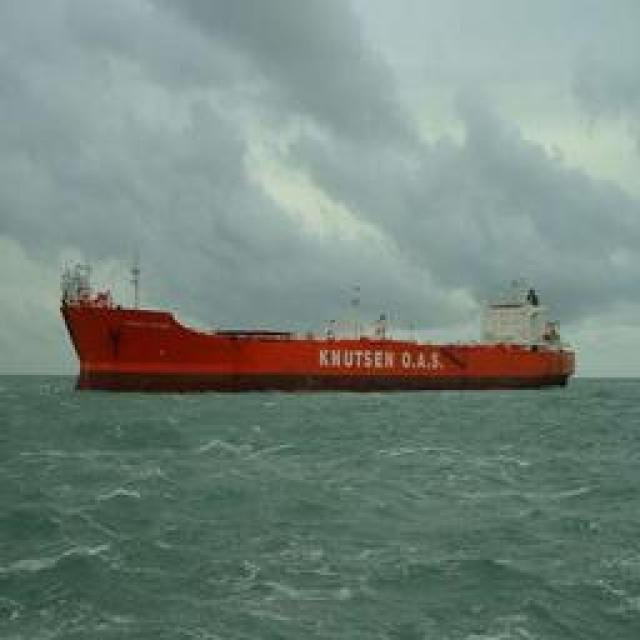ship2: (58, 259, 574, 392)
